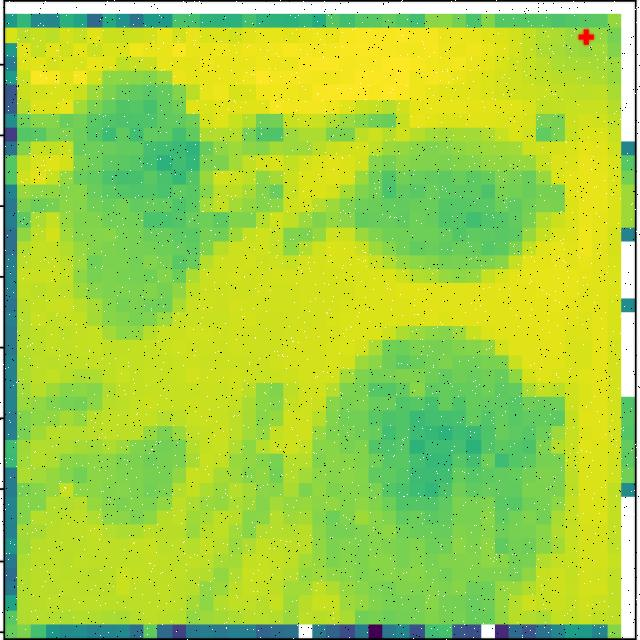Concrete: (78, 68, 191, 320)
Glass: (92, 428, 182, 527)
Metal: (366, 129, 535, 279)
Wood: (338, 382, 533, 580)
